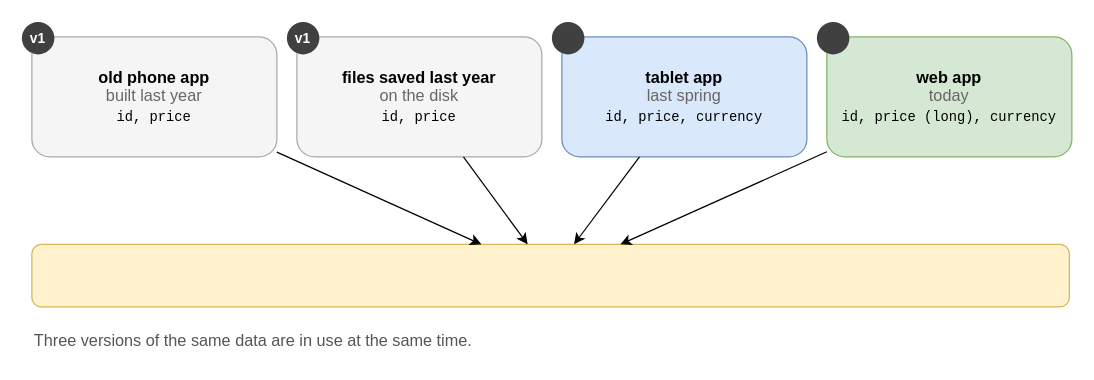
The diagram is 1094 pixels wide and 380 high, and some of its shapes have lost their labels. Each missing label, with the centre of its shape:
"the server must understand all of them: v1, v2 and v3" goes at [550,275].
"v2" goes at [567,37].
"v3" goes at [832,37].
